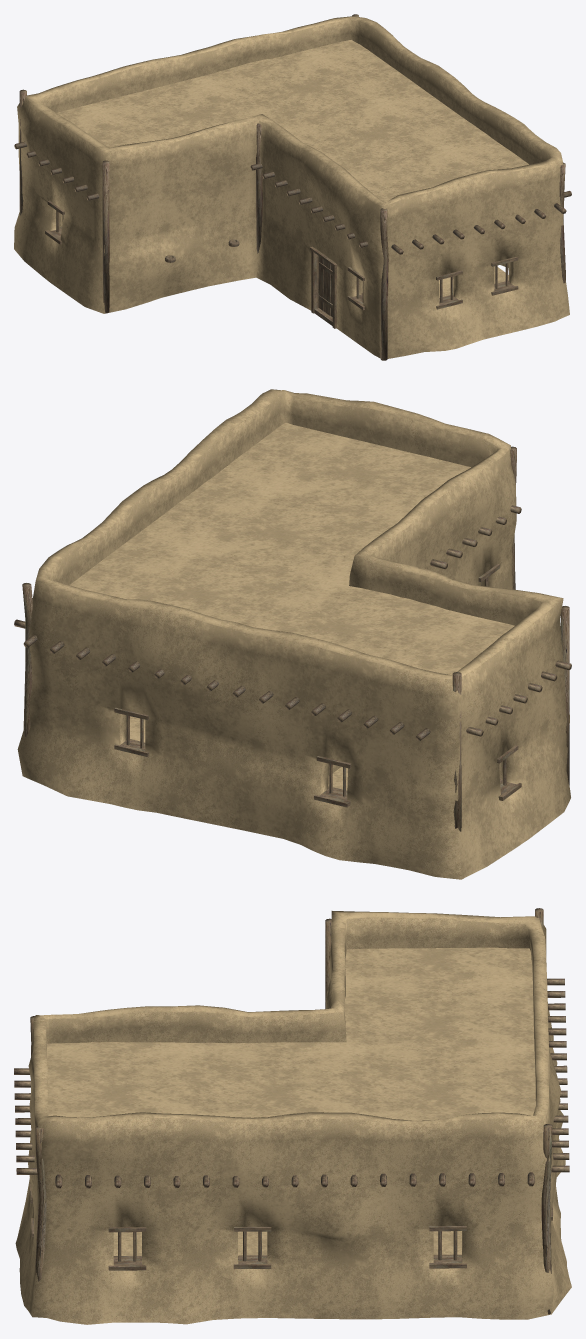
File: egypt_house_005.glb
The picture shows the model from 3 angles, top to bottom: view 1: azimuth 30°, elevation 25°; view 2: azimuth 150°, elevation 25°; view 3: azimuth 270°, elevation 25°; orthographic projection. The views are drawn at different scales.
Parts seen in each view (by area): view 1: walls, roof; view 2: roof, walls; view 3: roof, walls.
Part boxes in pixels (box(x1,y1,x2,y2)): walls: box(14, 91, 571, 360); roof: box(17, 14, 565, 236); roof: box(22, 389, 569, 721); walls: box(14, 474, 571, 879); roof: box(28, 908, 560, 1161); walls: box(14, 910, 571, 1324).
Size of the model in its own units: 8.57 by 3.54 by 8.92.
2 materials, 2 textured.
